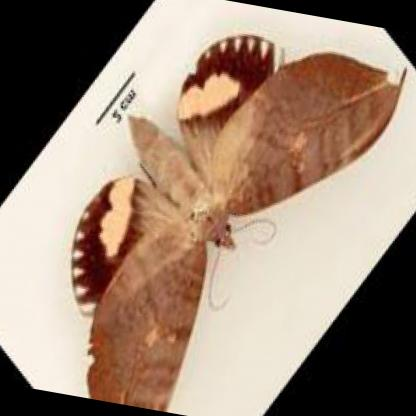fruit sucking moth: (69, 33, 408, 409)
